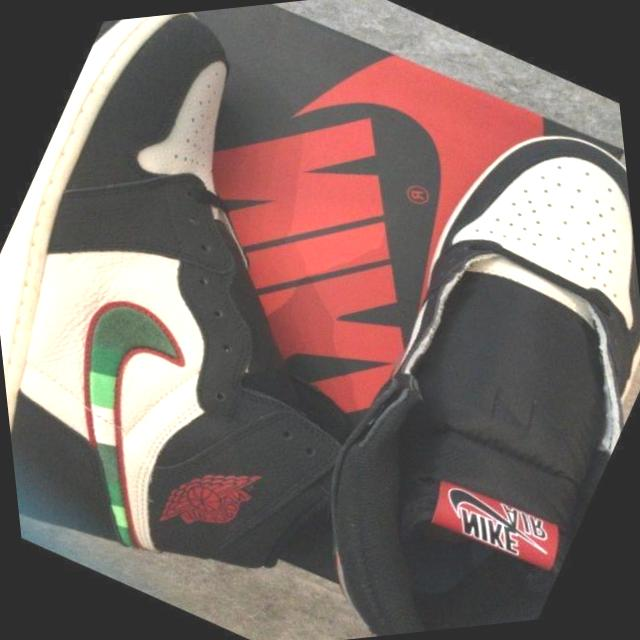nike_original_jordan: (0, 0, 542, 640), (211, 78, 640, 640)
